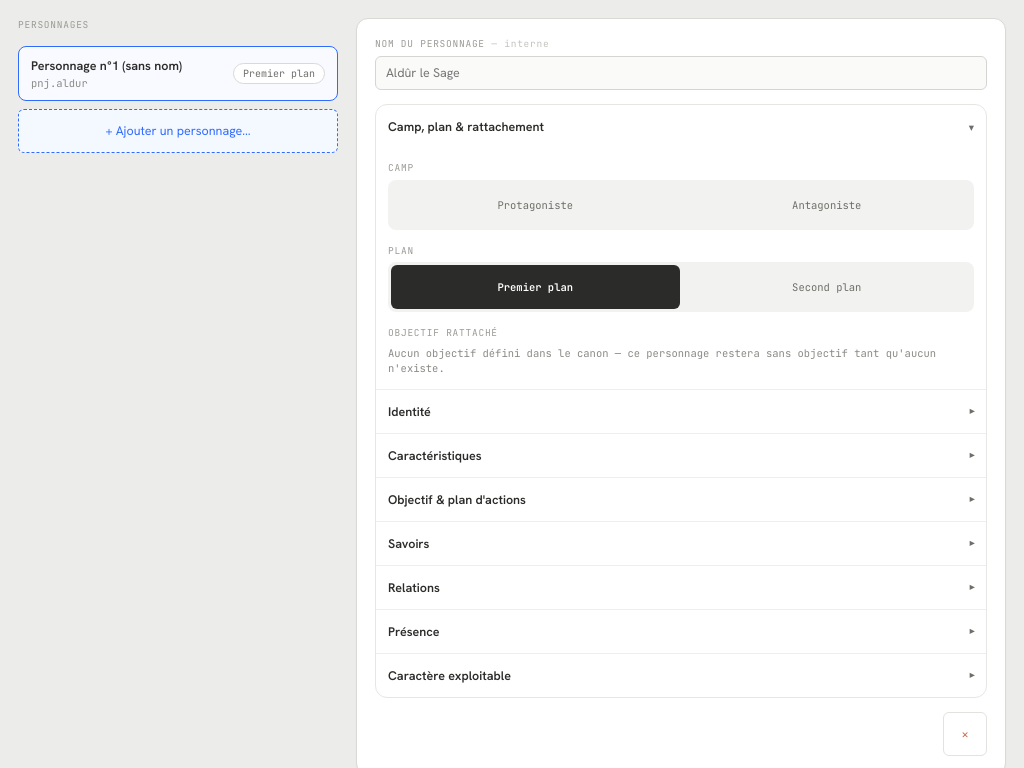
Test case: FichePersonnage - bloc Savoirs › etat vide monde.indices ET aucun savoir : tout le corps du bloc est remplace, aucun select d ajout
Click the button "Savoirs ▾" at (409, 543), box top-left (376, 521), bottom-right (986, 565)
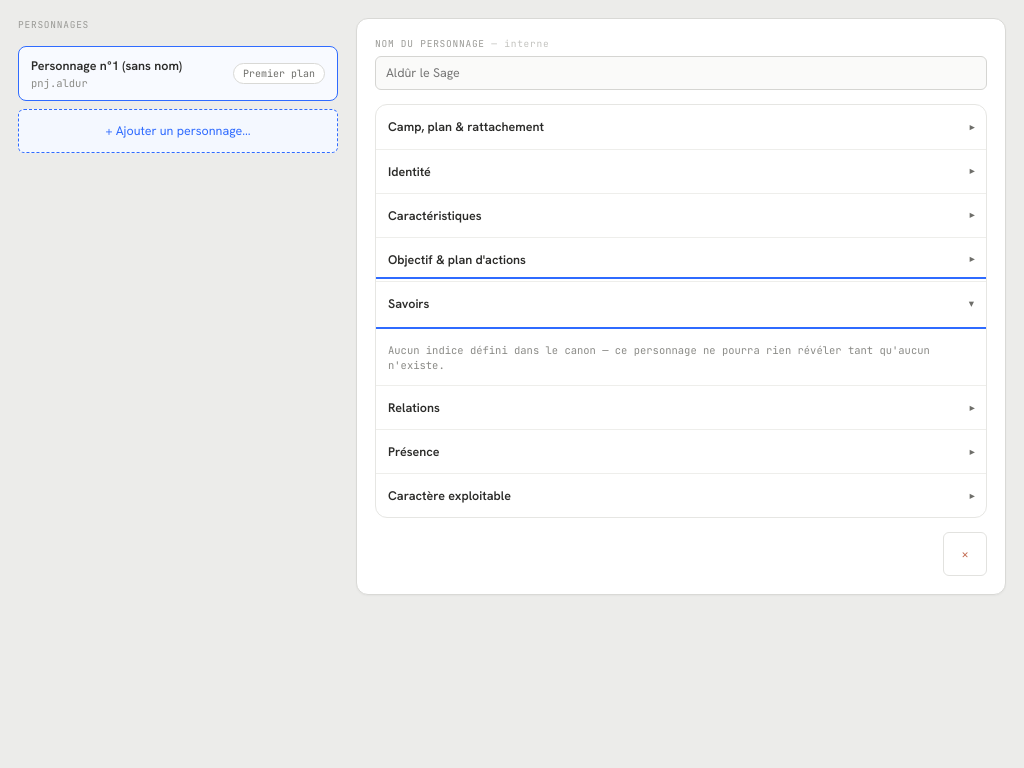
expect the text "Aucun indice défini dans le canon — ce personnage ne pourra rien révéler tant qu'aucun n'existe." is shown: met, box top-left (388, 343), bottom-right (930, 372)
